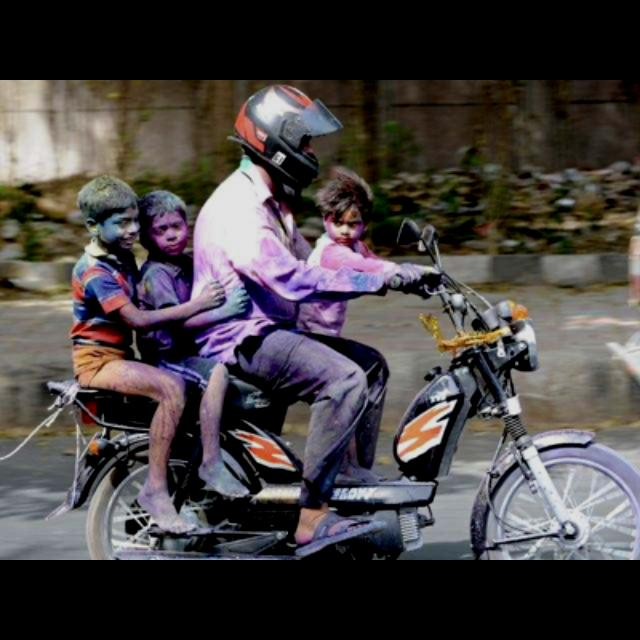With Helmet: (230, 82, 342, 196)
